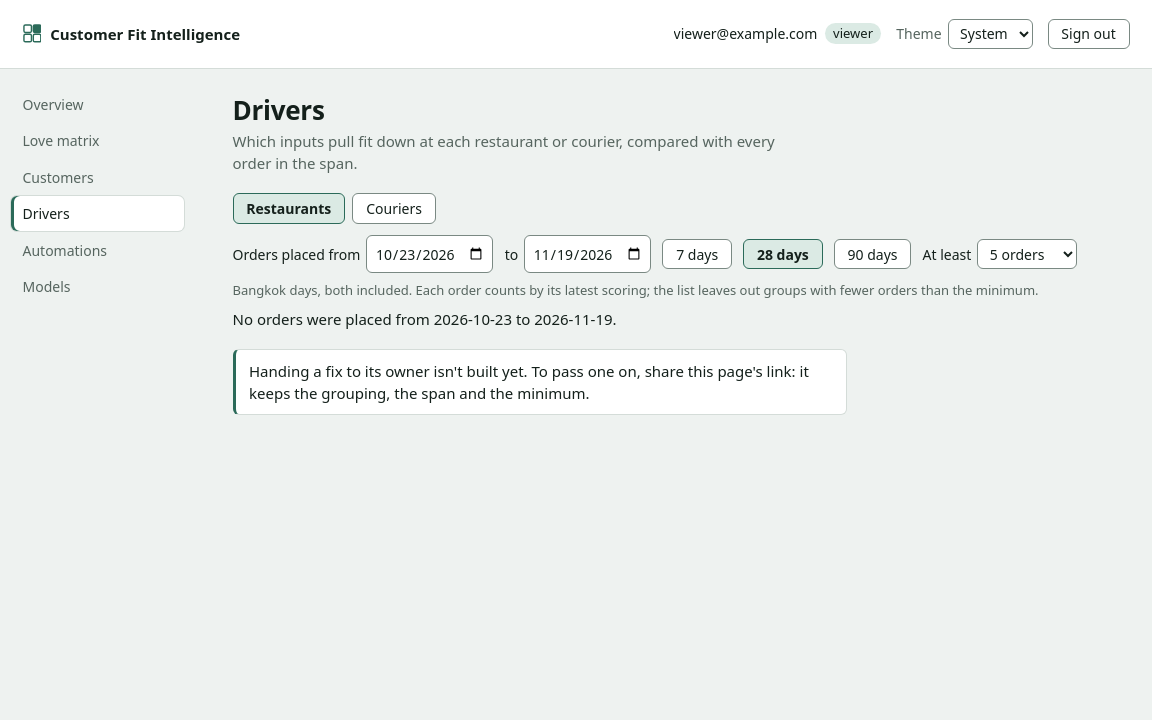
Test case: a span with no orders, and a minimum no group reaches, each say so
Expected: the text "No orders were placed from 2026-10-23 to 2026-11-19." is shown, [232,309,617,329]
Select "20 orders" in the dropdown labelled "At least" at point(1027, 254), box [977,239,1077,269]
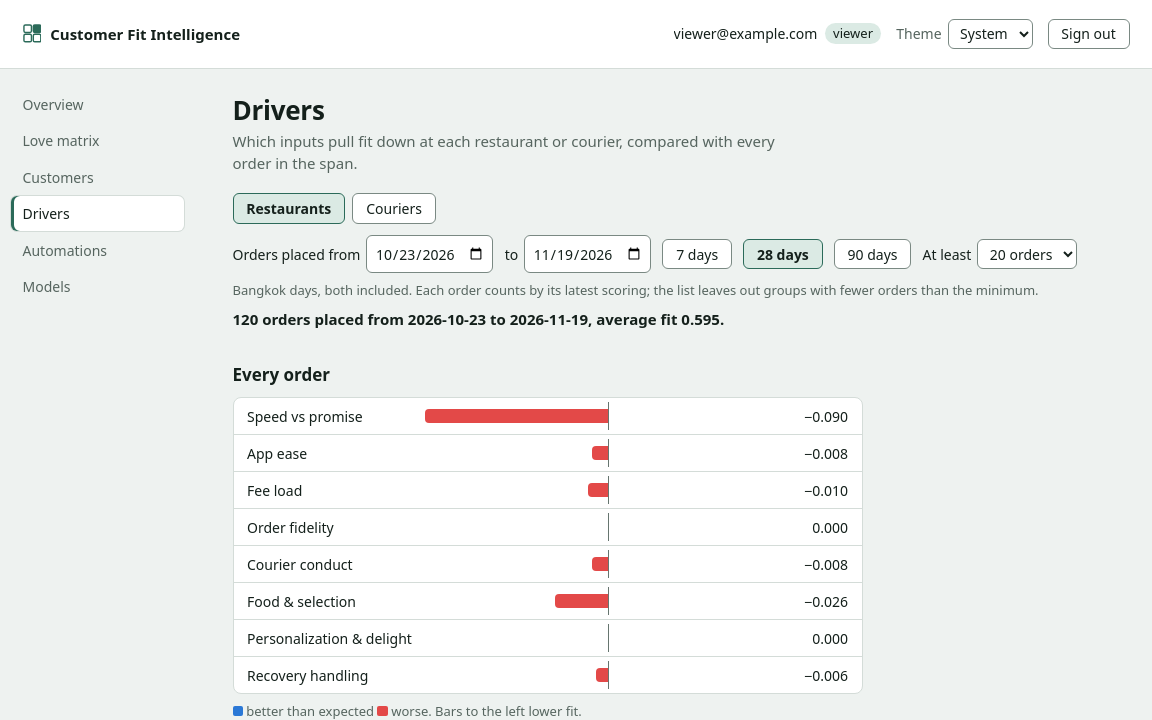
Expected: the table named "Fit over every order: each input's average share" is shown, [232,397,862,694]
